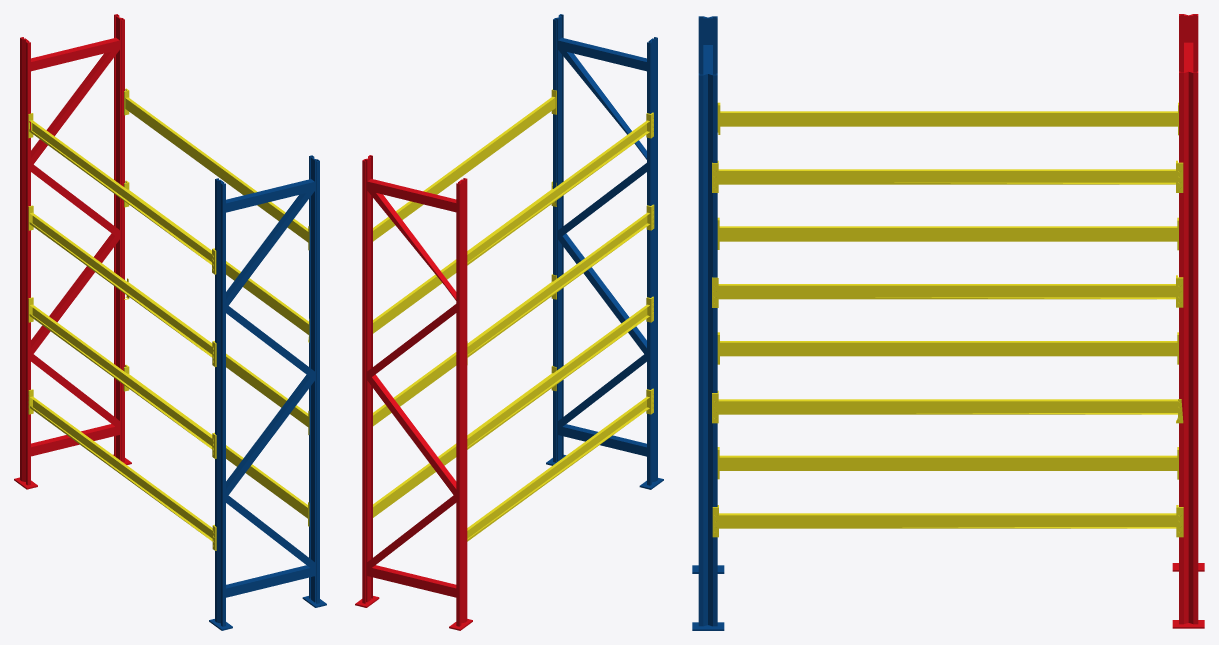
Rendered from rackding.gltf.
3 renders of one model, left to right at view 1: azimuth 30°, elevation 25°; view 2: azimuth 150°, elevation 25°; view 3: azimuth 270°, elevation 25°, orthographic. The views are drawn at different scales.
Parts seen in each view (by area): view 1: Rack, Rack.001, Rack.002; view 2: Rack, Rack.002, Rack.001; view 3: Rack, Rack.002, Rack.001.
Part boxes in pixels (x1,y1,x2,y2): Rack: [28, 88, 309, 550]; Rack.001: [209, 155, 326, 630]; Rack.002: [14, 14, 131, 489]; Rack: [373, 89, 654, 541]; Rack.002: [355, 155, 472, 630]; Rack.001: [546, 14, 663, 489]; Rack: [712, 102, 1183, 537]; Rack.002: [1172, 14, 1204, 628]; Rack.001: [692, 16, 724, 630].
Size of the model in its own units: 47.84 by 189 by 159.
